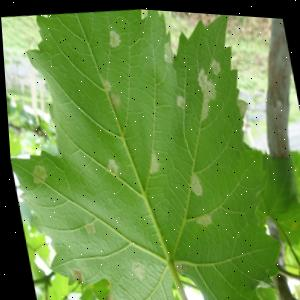Folha: (0, 0, 291, 300)
Fungo: (190, 63, 221, 121), (28, 163, 48, 188), (144, 148, 161, 173), (186, 170, 202, 196), (127, 257, 144, 280), (161, 38, 175, 63), (192, 210, 212, 227), (108, 89, 123, 110), (103, 156, 118, 177), (107, 28, 122, 47), (209, 54, 222, 74), (174, 90, 186, 109), (67, 267, 80, 283), (81, 219, 94, 235), (171, 259, 183, 275), (94, 290, 113, 300), (101, 76, 112, 92)
